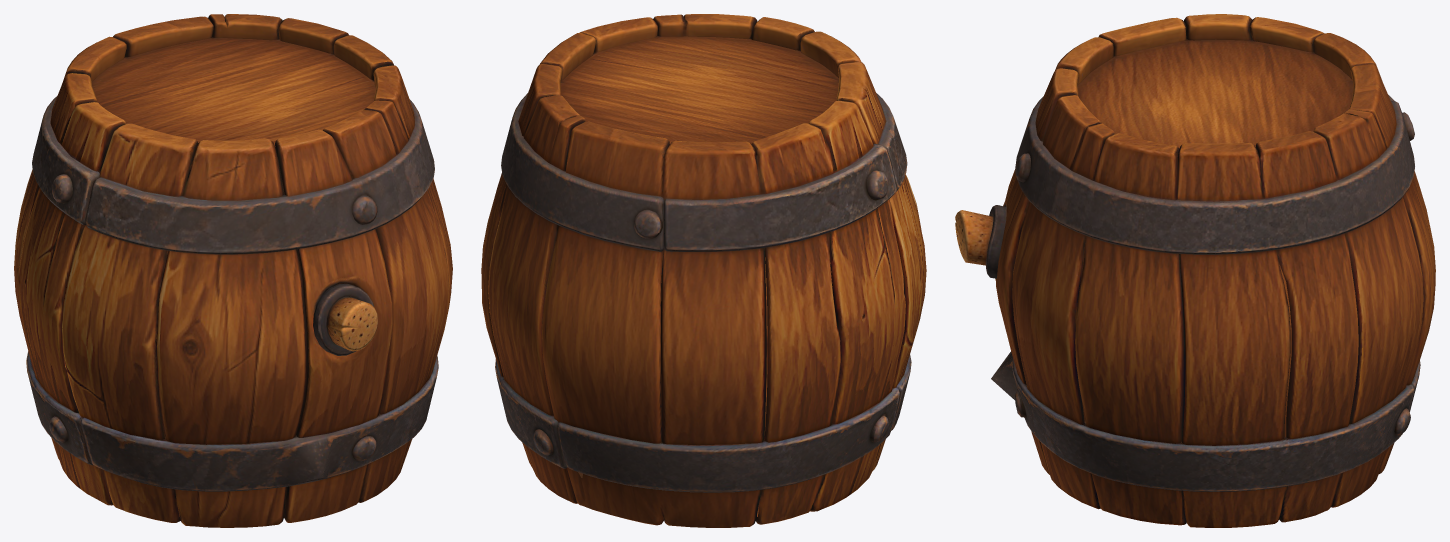
File: rum-barrel-v1-original.glb
3 renders of one model, left to right at view 1: azimuth 30°, elevation 25°; view 2: azimuth 150°, elevation 25°; view 3: azimuth 270°, elevation 25°, orthographic.
Parts seen in each view (by area): view 1: tripo_node_5c7b29fd-e32b-4ff8-87a9-f045bb61ca9a; view 2: tripo_node_5c7b29fd-e32b-4ff8-87a9-f045bb61ca9a; view 3: tripo_node_5c7b29fd-e32b-4ff8-87a9-f045bb61ca9a.
Boxes of the visible parts, x1=… form: tripo_node_5c7b29fd-e32b-4ff8-87a9-f045bb61ca9a: x1=14, y1=14, x2=452, y2=527; tripo_node_5c7b29fd-e32b-4ff8-87a9-f045bb61ca9a: x1=481, y1=14, x2=926, y2=527; tripo_node_5c7b29fd-e32b-4ff8-87a9-f045bb61ca9a: x1=955, y1=14, x2=1435, y2=527.
Size of the model in its own units: 0.9146 by 0.8628 by 0.9985.
1 material, 1 textured.
